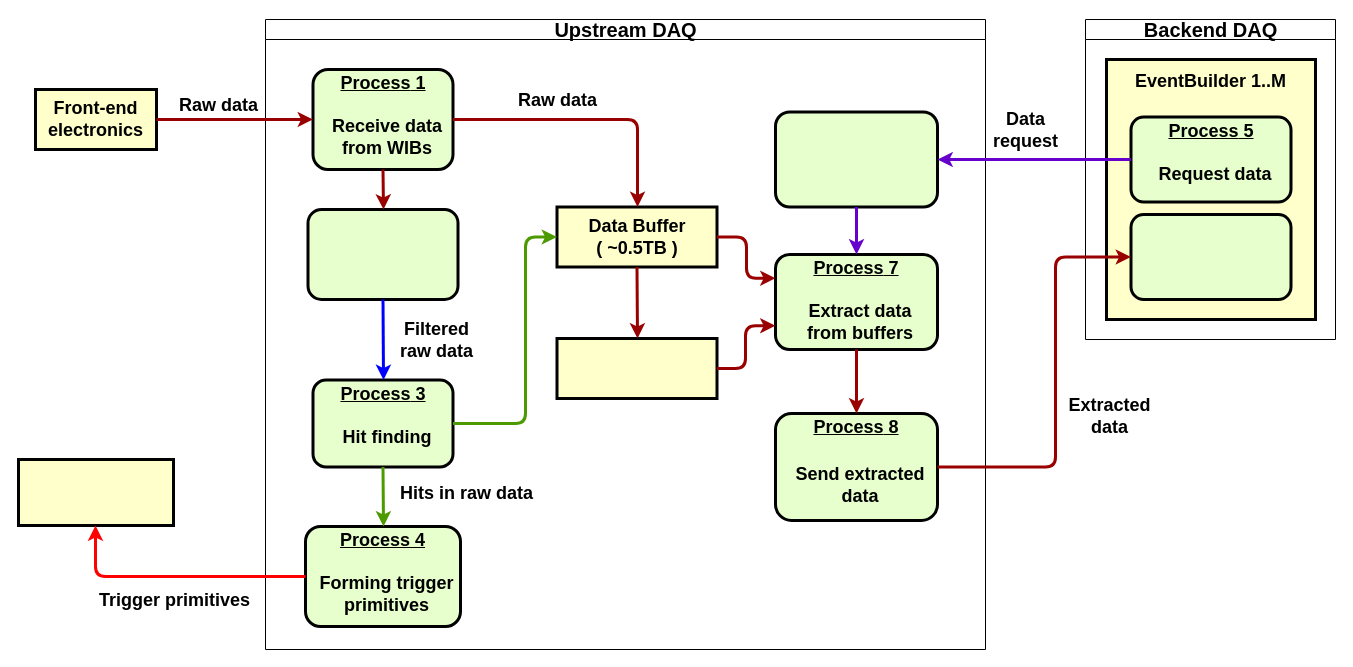
Some shapes in this 1353 by 667 pixel diagram are drawn without their labels. The shapes that lost their labels are listed below. From the top down, each one's centre as x and y in pixels, then its label:
pixel 856 159: Process 6 Receive data request
pixel 382 254: Process 2 Noise filtering
pixel 1210 256: Process 9 Receive data
pixel 636 368: Data Store ( 2TB )
pixel 95 492: Data Selection System
